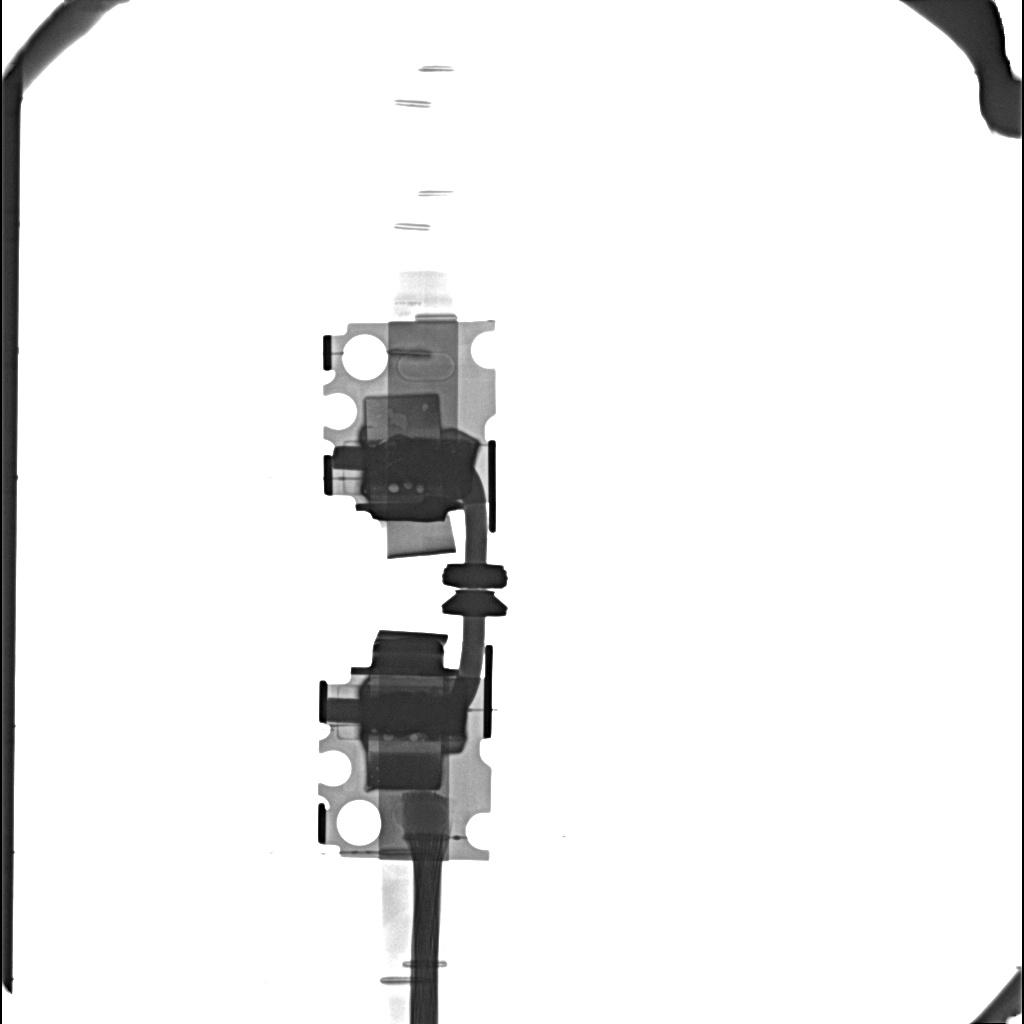defect: (364, 438, 475, 486), (365, 736, 443, 791), (359, 693, 466, 733), (363, 393, 441, 438), (388, 483, 400, 493), (404, 484, 413, 489), (417, 487, 423, 493)
